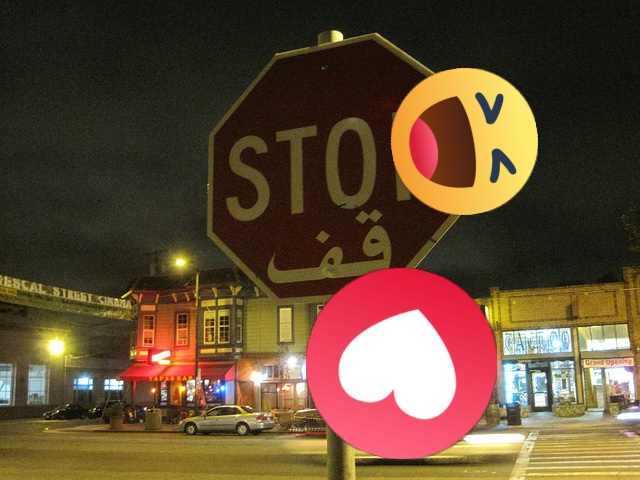haha: (391, 68, 538, 215)
love: (306, 268, 497, 459)
